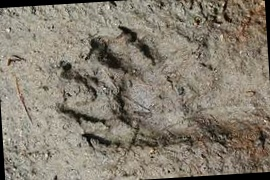fox: (64, 57, 145, 133)
